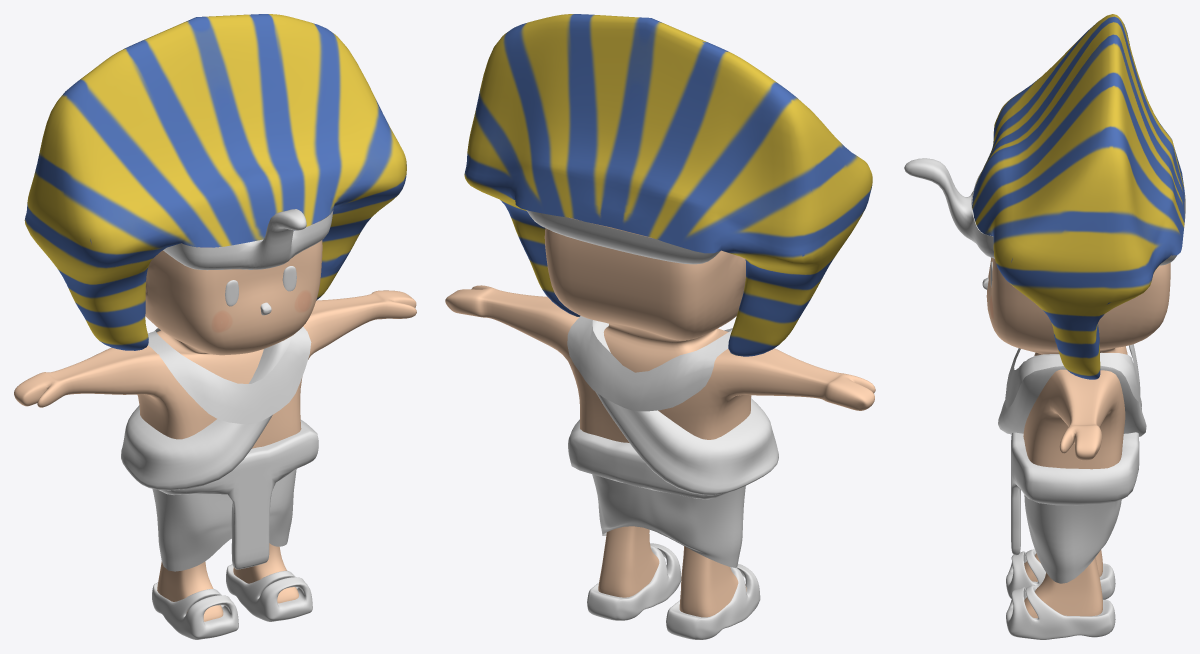
The model's file is chico_egipto.fbx.
The picture shows the model from 3 angles, left to right: view 1: azimuth 30°, elevation 25°; view 2: azimuth 150°, elevation 25°; view 3: azimuth 270°, elevation 25°; orthographic projection. The views are drawn at different scales.
Parts seen in each view (by area): view 1: Gorro, Cuerpo, Tela, Cinturon, Pantalones, Collar, Sandalias, Corona(Gorro), Ojos; view 2: Gorro, Cuerpo, Tela, Pantalones, Collar, Sandalias, Cinturon, Corona(Gorro); view 3: Gorro, Cuerpo, Cinturon, Pantalones, Sandalias, Tela, Corona(Gorro), Collar.
Part boxes in pixels (<box>): Gorro: <box>24,14,406,350</box>; Cuerpo: <box>14,221,416,621</box>; Tela: <box>121,337,290,490</box>; Cinturon: <box>159,419,318,569</box>; Pantalones: <box>152,469,296,571</box>; Collar: <box>148,327,311,424</box>; Sandalias: <box>152,564,312,639</box>; Corona(Gorro): <box>163,209,333,270</box>; Ojos: <box>225,266,296,306</box>; Gorro: <box>464,14,872,356</box>; Cuerpo: <box>445,217,875,617</box>; Tela: <box>592,320,778,495</box>; Pantalones: <box>592,474,745,567</box>; Collar: <box>567,316,732,411</box>; Sandalias: <box>587,543,760,639</box>; Cinturon: <box>568,419,729,499</box>; Corona(Gorro): <box>526,210,720,264</box>; Gorro: <box>972,14,1184,379</box>; Cuerpo: <box>986,257,1170,618</box>; Cinturon: <box>1011,432,1139,555</box>; Pantalones: <box>1024,495,1121,583</box>; Sandalias: <box>1006,549,1115,639</box>; Tela: <box>998,354,1146,436</box>; Corona(Gorro): <box>904,158,1185,265</box>; Collar: <box>1005,344,1140,408</box>.
Bounding box in the file's own units: 202 × 280 × 125.
